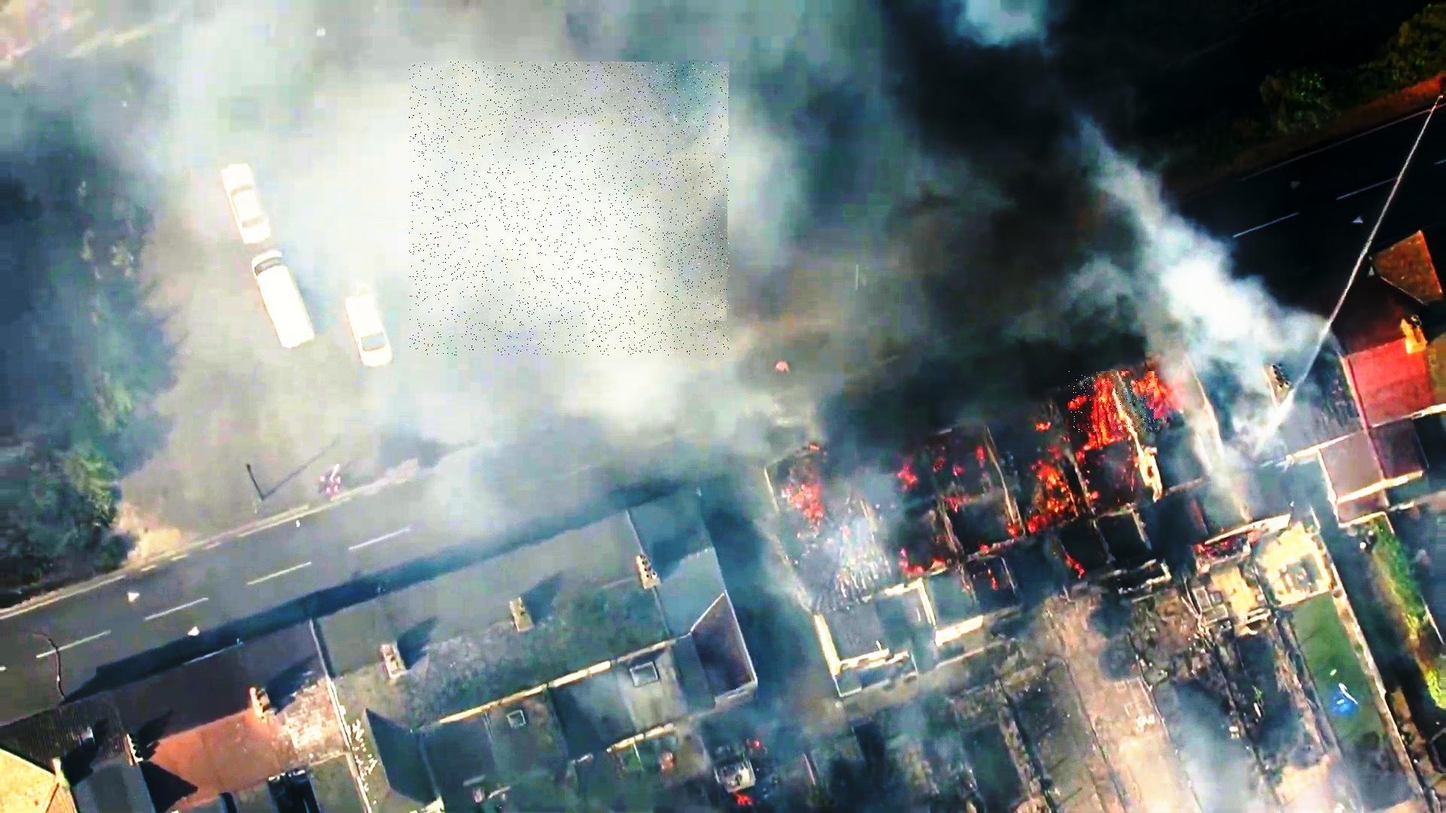fire: (1068, 371, 1157, 432)
smoke: (409, 62, 729, 356)
